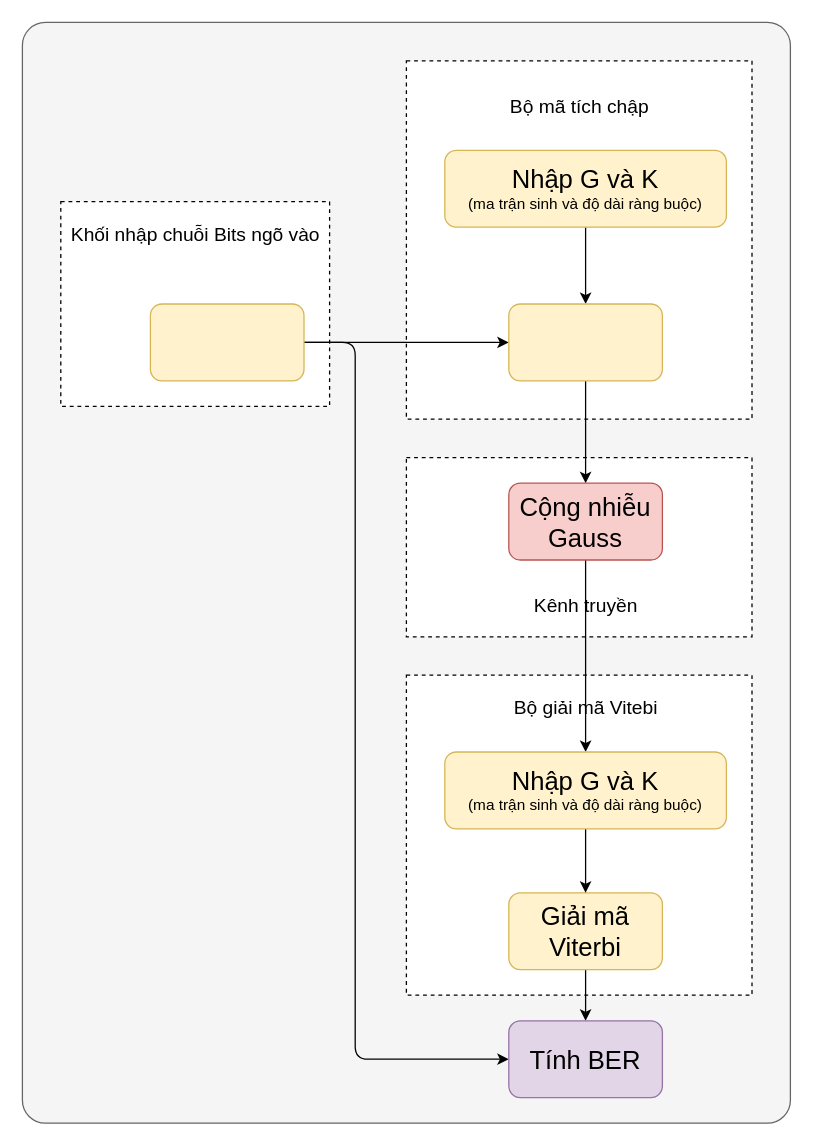
The diagram is 813 pixels wide and 1146 high, and some of its shapes have lost their labels. Here are the shapes that lost their labels. From the top down, the centre of each, then its label:
At point (226, 342): "Input Bit".
At point (585, 342): "Mã hóa Mã chập".
